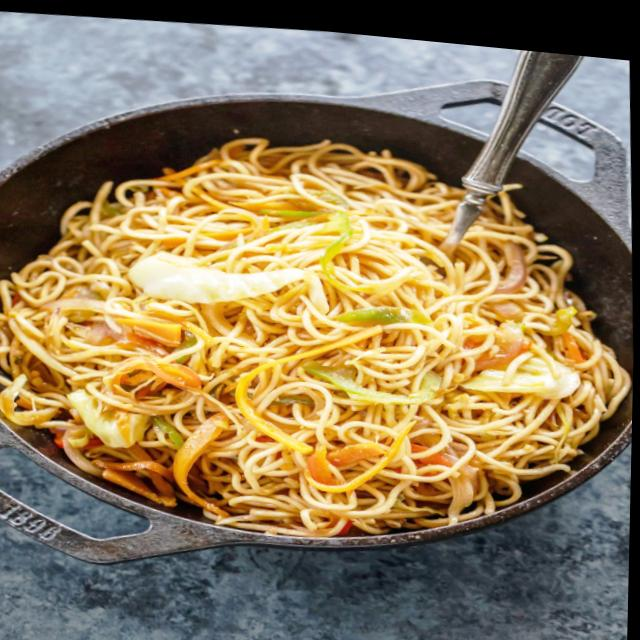Chow Mein: (0, 96, 637, 570)
